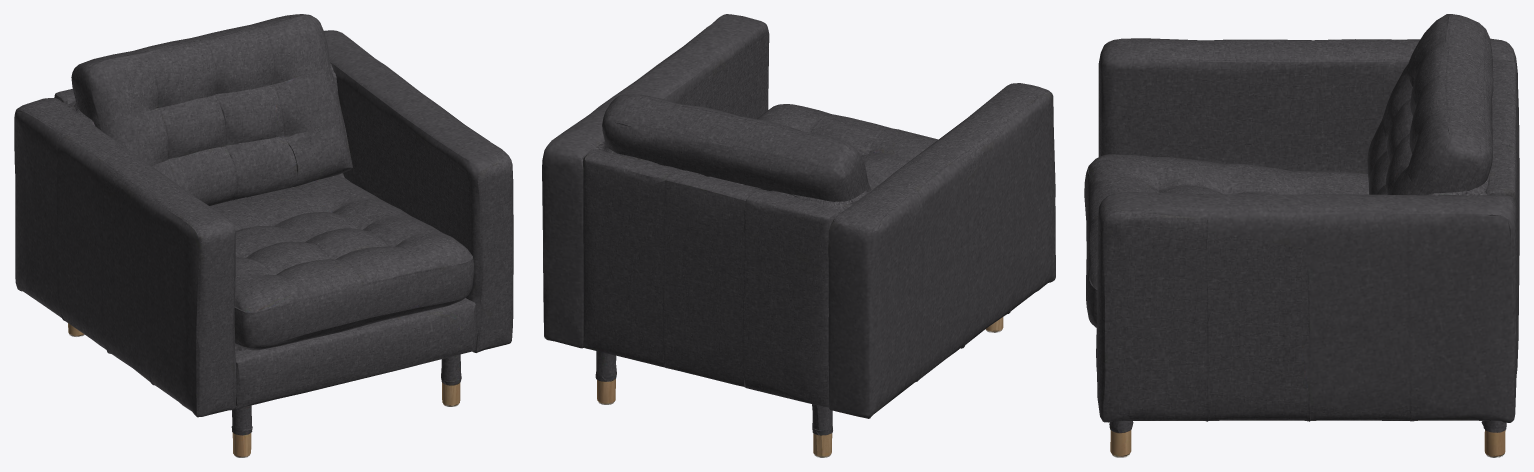
File: morabo_armchair_gunnared_dark_gray_wood.glb
3 views of the same model, side by side, from view 1: azimuth 30°, elevation 25°; view 2: azimuth 150°, elevation 25°; view 3: azimuth 270°, elevation 25° (orthographic). The views are drawn at different scales.
Visible parts, largest first — view 1: ProcessedMeshNode; view 2: ProcessedMeshNode; view 3: ProcessedMeshNode.
Boxes of the visible parts, x1,y1,x2,y2 form: ProcessedMeshNode: (14, 14, 513, 457); ProcessedMeshNode: (542, 14, 1055, 457); ProcessedMeshNode: (1084, 14, 1519, 457).
Size of the model in its own units: 0.9031 by 0.7554 by 0.9166.
Materials: 1 (1 with a texture image).
